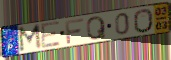0: (114, 12, 132, 37)
E: (40, 20, 62, 50)
F: (64, 17, 85, 45)
M: (17, 23, 43, 54)
O: (132, 8, 154, 35)
Q: (86, 15, 108, 41)
